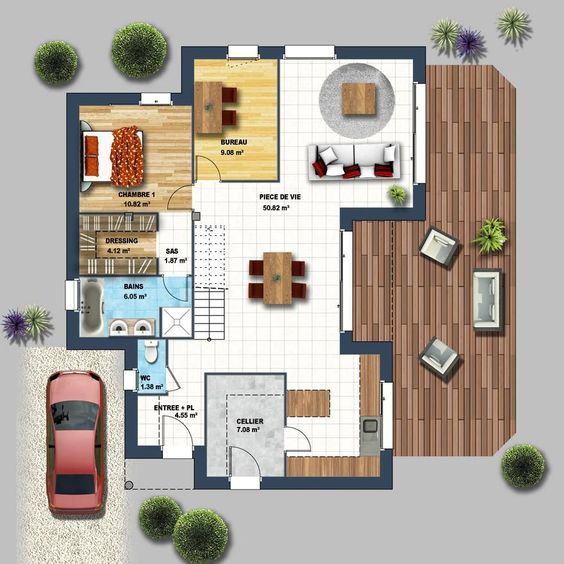door: (227, 442, 263, 474), (159, 413, 196, 443), (288, 420, 314, 454), (162, 276, 189, 303), (193, 152, 217, 174), (193, 150, 217, 172), (168, 370, 192, 392), (165, 187, 187, 211)
